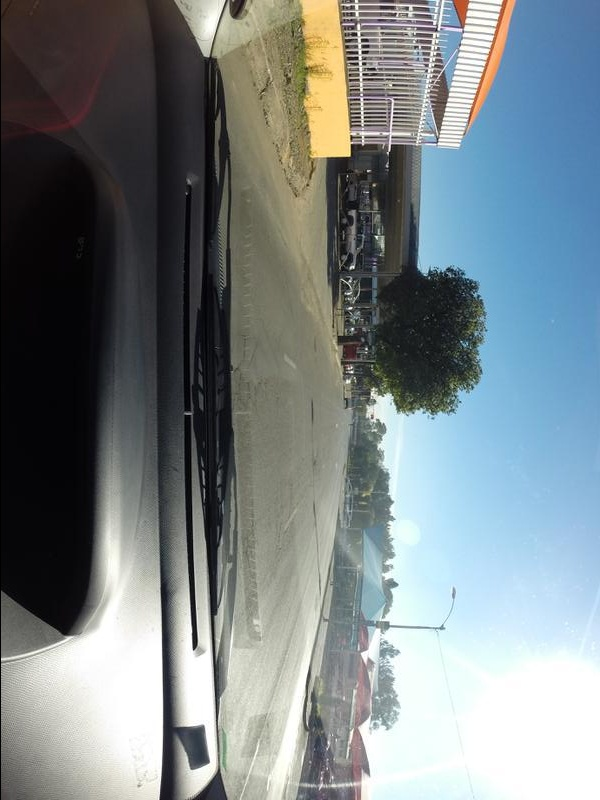pothole: (308, 400, 316, 429), (308, 458, 316, 473)
